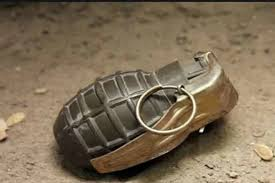bomb: (55, 53, 236, 174)
